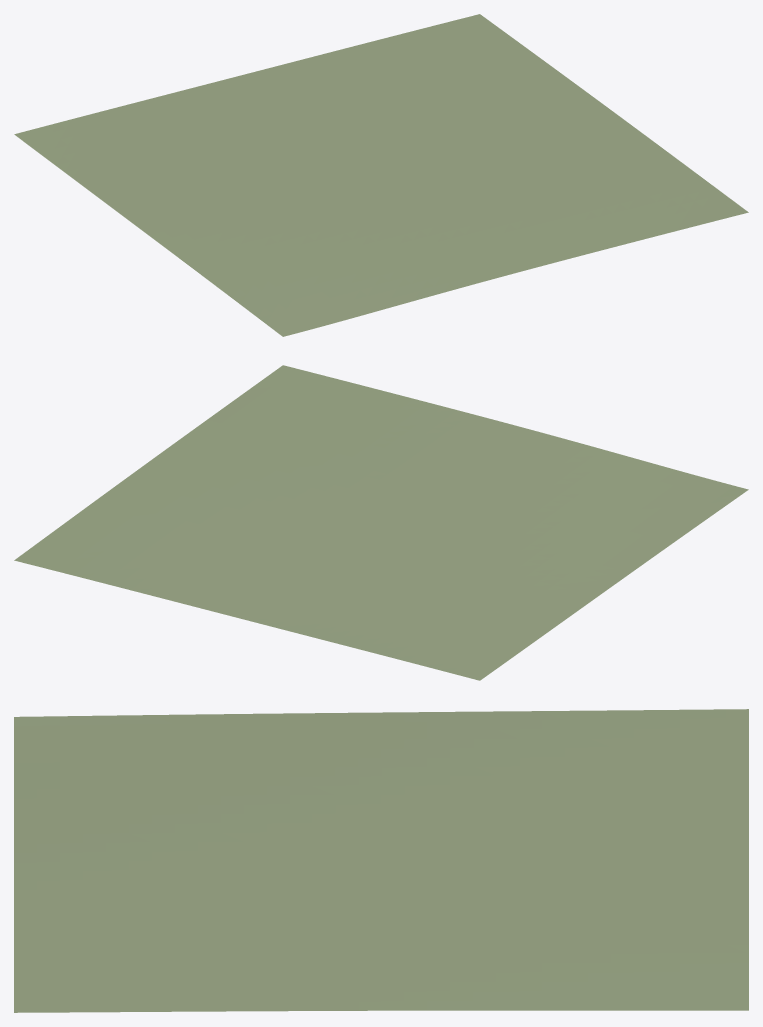
File: desert-9-14.glb
3 views of the same model, one above another, from view 1: azimuth 30°, elevation 25°; view 2: azimuth 150°, elevation 25°; view 3: azimuth 270°, elevation 25° (orthographic). The views are drawn at different scales.
Parts seen in each view (by area): view 1: desert-9-14; view 2: desert-9-14; view 3: desert-9-14.
Part boxes in pixels (x1=…): desert-9-14: x1=14, y1=14, x2=748, y2=336; desert-9-14: x1=14, y1=365, x2=748, y2=680; desert-9-14: x1=14, y1=709, x2=748, y2=1012.
Size of the model in its own units: 512 by 13.07 by 512.
